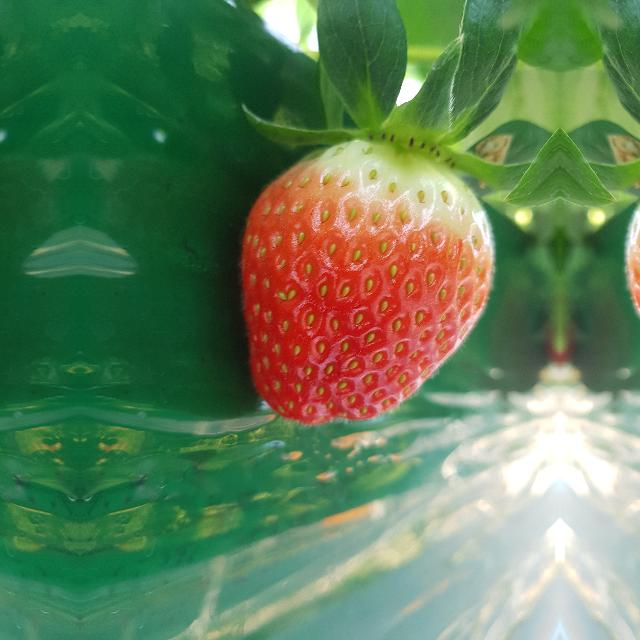Health_75: (238, 138, 496, 426)
